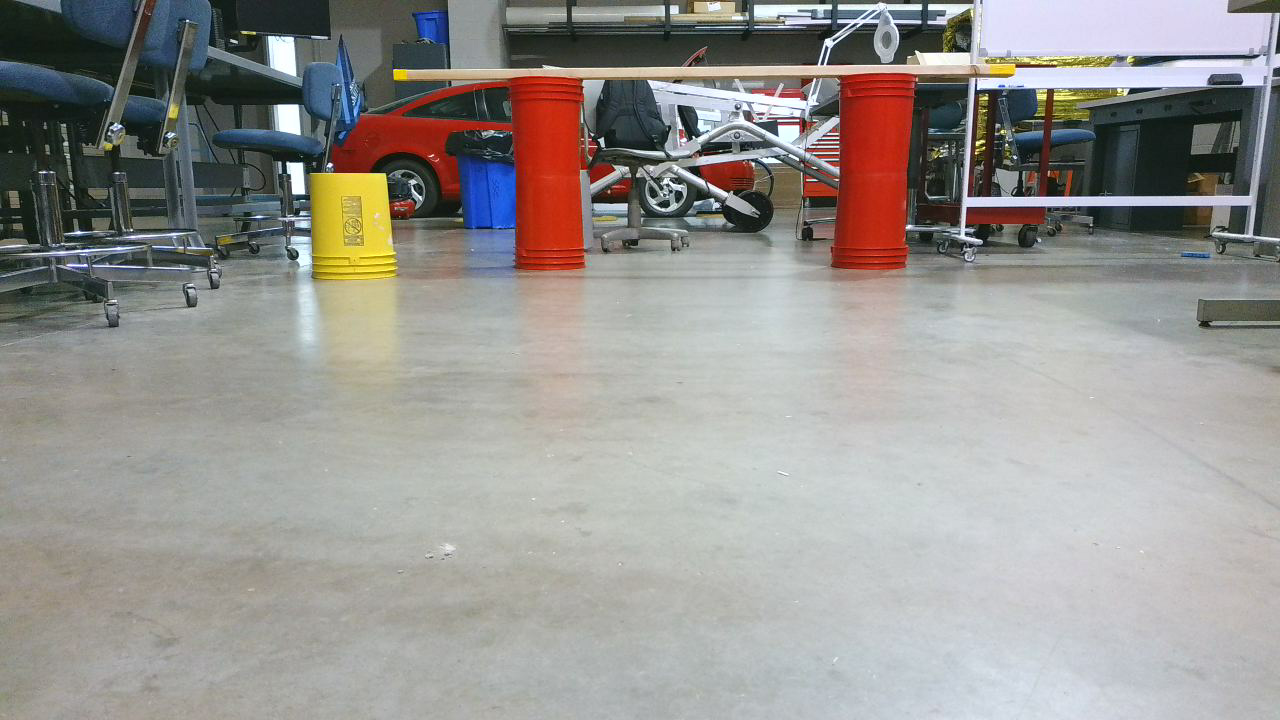red_bucket_arch: (518, 82, 916, 280)
yellow_bucket: (311, 175, 406, 285)
